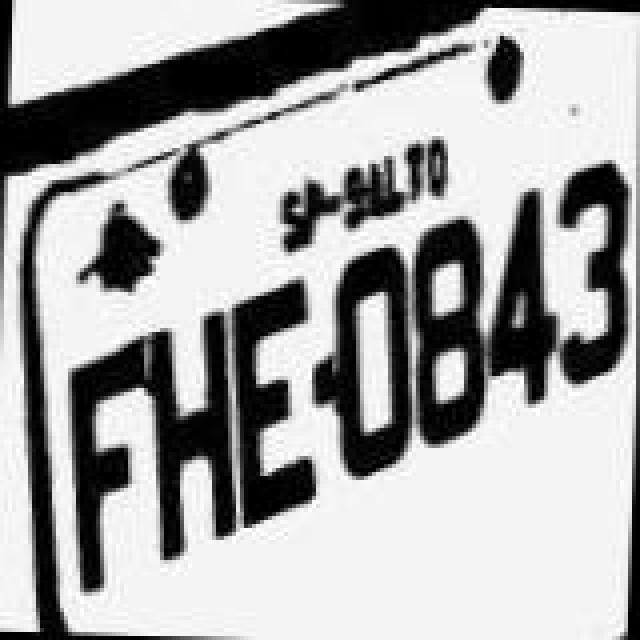3: (550, 152, 638, 396)
4: (480, 180, 564, 420)
8: (406, 208, 494, 456)
E: (226, 274, 322, 538)
F: (56, 330, 152, 598)
H: (142, 306, 246, 566)
O: (328, 236, 416, 488)
